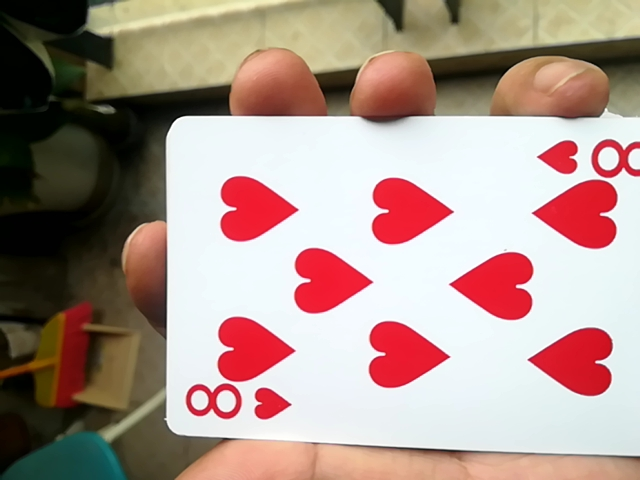hx 8: (156, 111, 637, 460)
